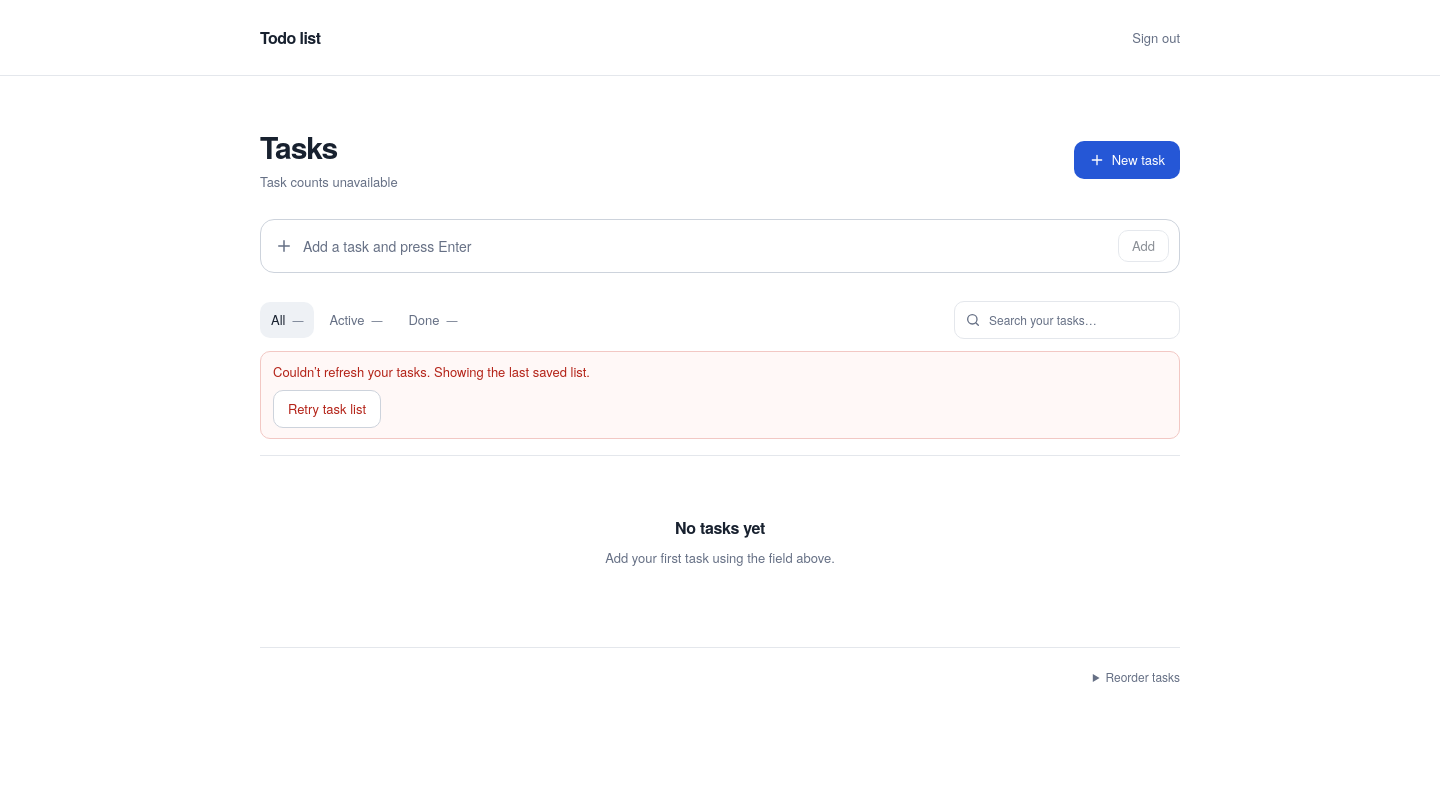
Test: task list › preserves the cached list on refresh failure (empty: true) and recovers
Check: the message shows "Showing the last saved list", box 273,362 -> 590,381
Check: the heading "No tasks yet" is shown, box 675,516 -> 765,538
Click the button "Retry task list".
click(327, 408)  # box 273,390 -> 381,428
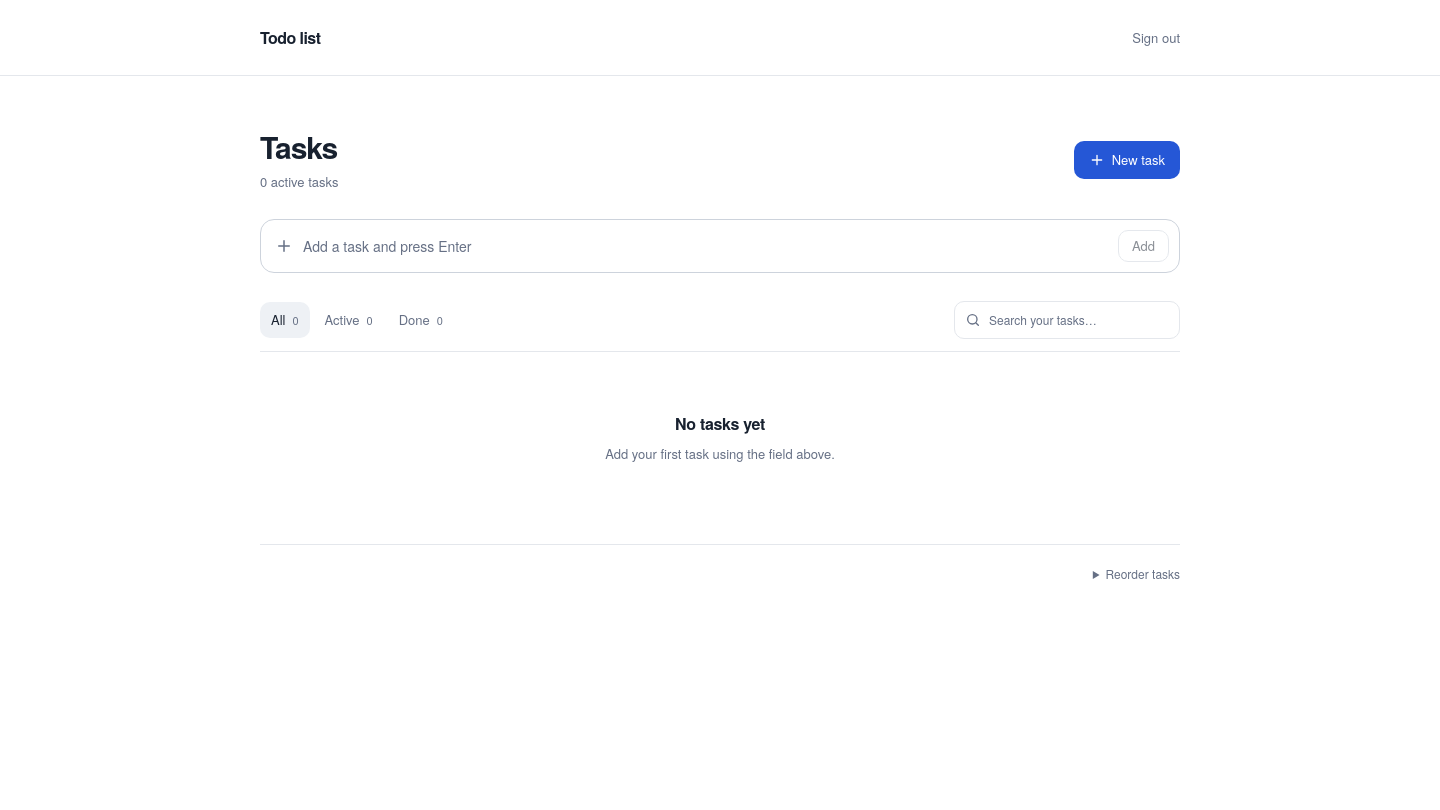
Check: the message "Couldn’t refresh your tasks. Showing the last saved list. Retry task list" is gone
Check: the text "0 active tasks" is shown, box 260,172 -> 338,191
